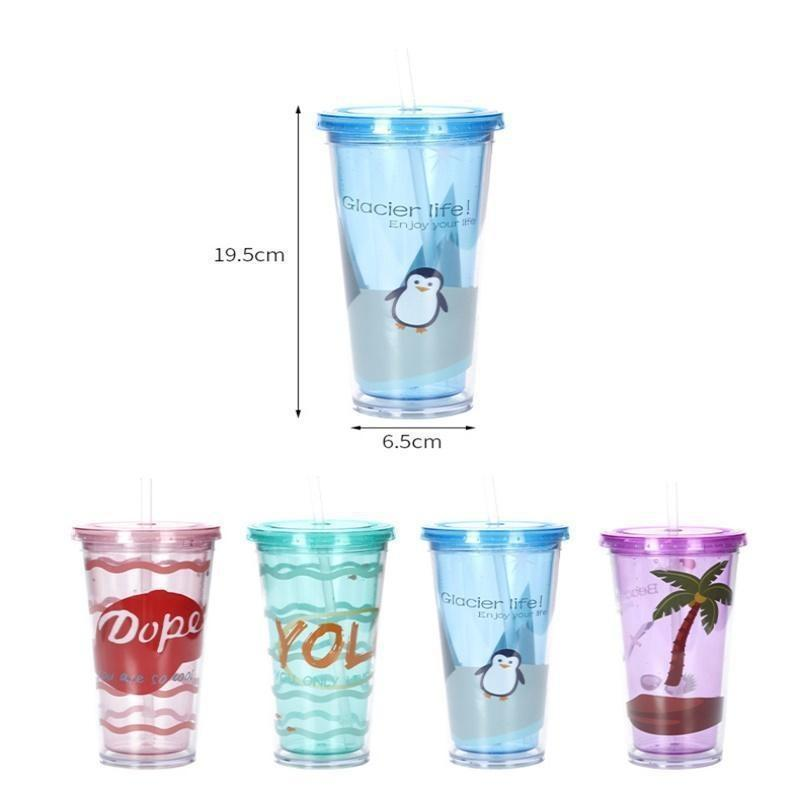cup-disposable: (298, 95, 509, 417), (421, 517, 569, 772), (72, 516, 221, 769), (601, 519, 748, 772), (252, 514, 396, 768)
